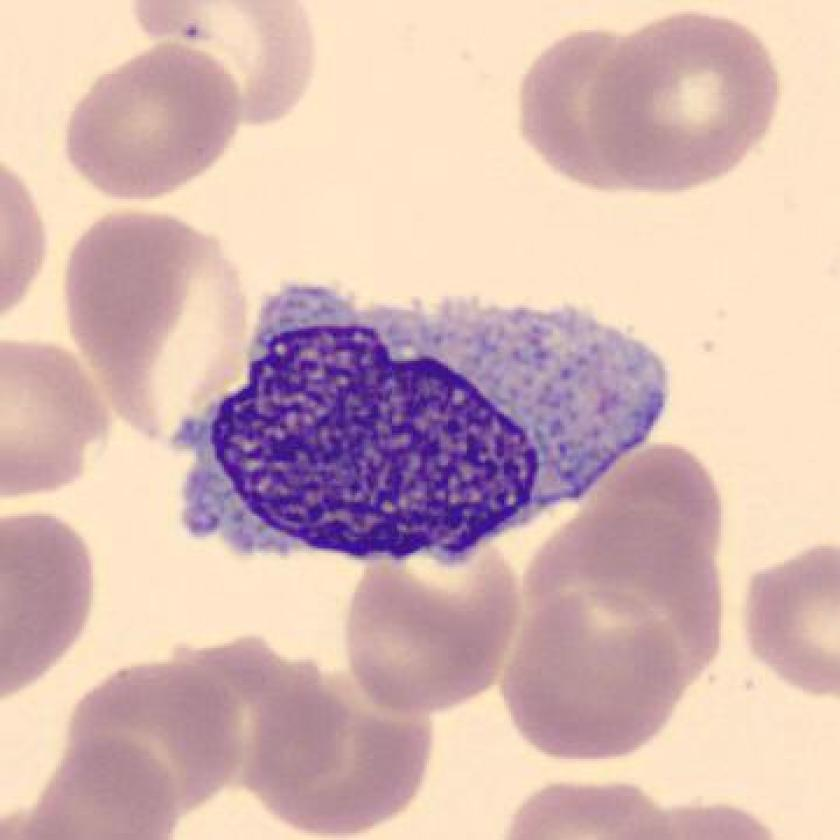monocyte: (155, 258, 689, 589)
